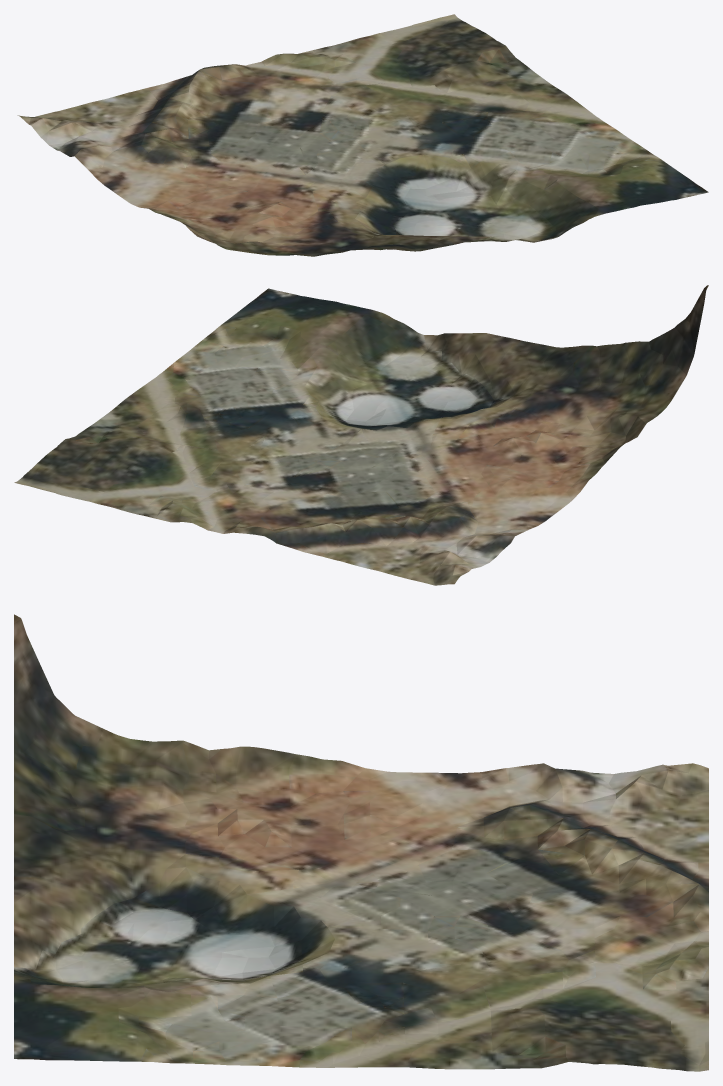
3 renders of one model, top to bottom at view 1: azimuth 30°, elevation 25°; view 2: azimuth 150°, elevation 25°; view 3: azimuth 270°, elevation 25°, orthographic. The views are drawn at different scales.
Bounding box in the file's own units: 104 × 29.45 × 104.
Materials: 3 (3 with a texture image).
